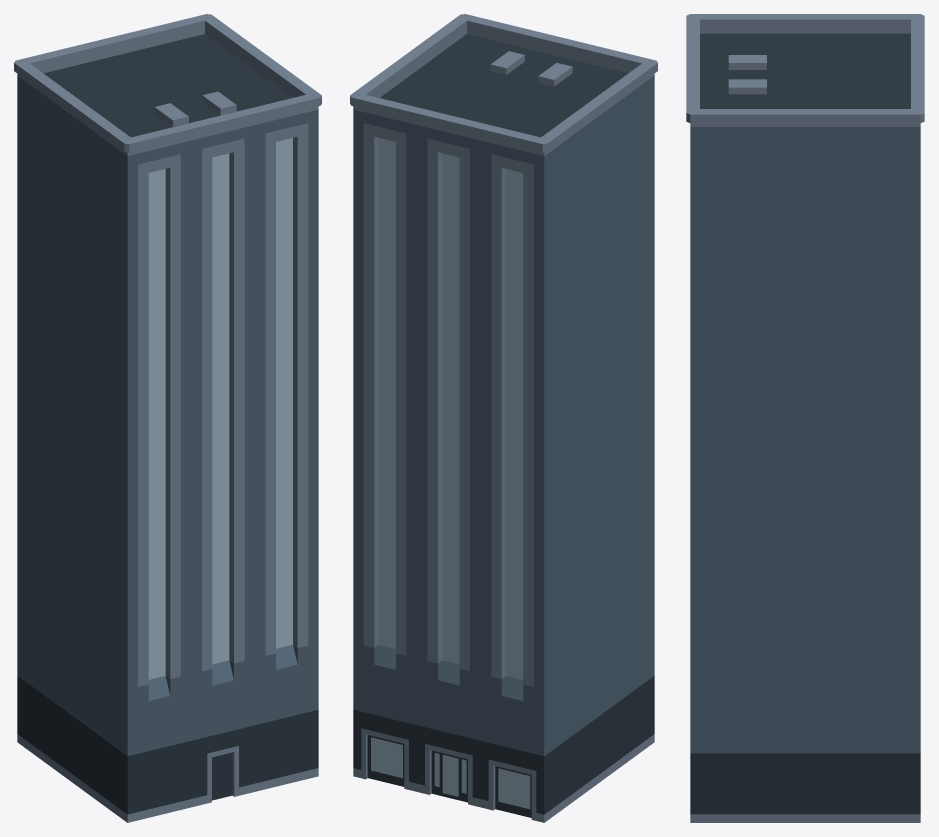
File: london-tower-a.glb
3 views of the same model, side by side, from view 1: azimuth 30°, elevation 25°; view 2: azimuth 150°, elevation 25°; view 3: azimuth 270°, elevation 25° (orthographic). The views are drawn at different scales.
Visible parts, largest first — view 1: skyscraperF; view 2: skyscraperF; view 3: skyscraperF.
Boxes of the visible parts, x1,y1,x2,y2 form: skyscraperF: (14, 14, 321, 822); skyscraperF: (350, 14, 657, 822); skyscraperF: (686, 14, 924, 822).
Bounding box in the file's own units: 1.24 × 4.08 × 1.24.
